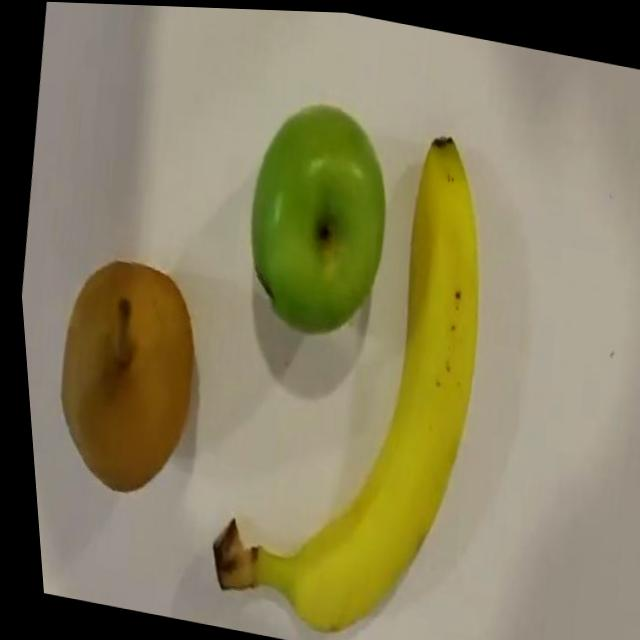Apple: (224, 87, 405, 345), (31, 247, 211, 504)
Banana: (166, 92, 521, 640)
